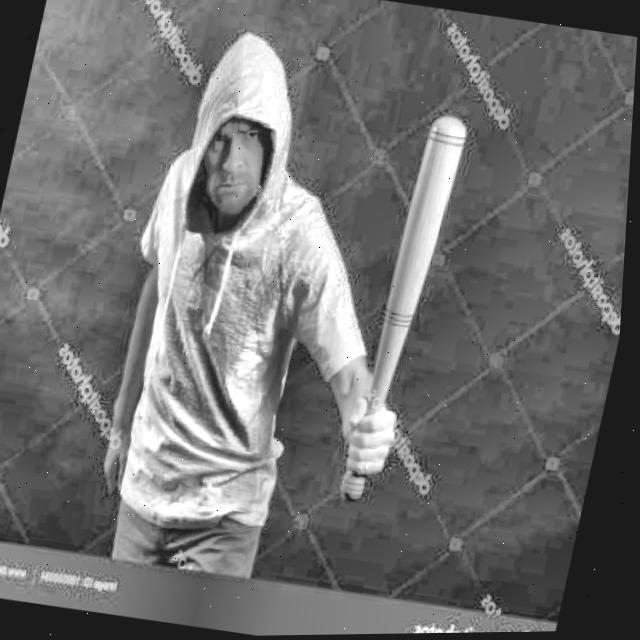tongkat pemukul: (320, 109, 479, 514)
